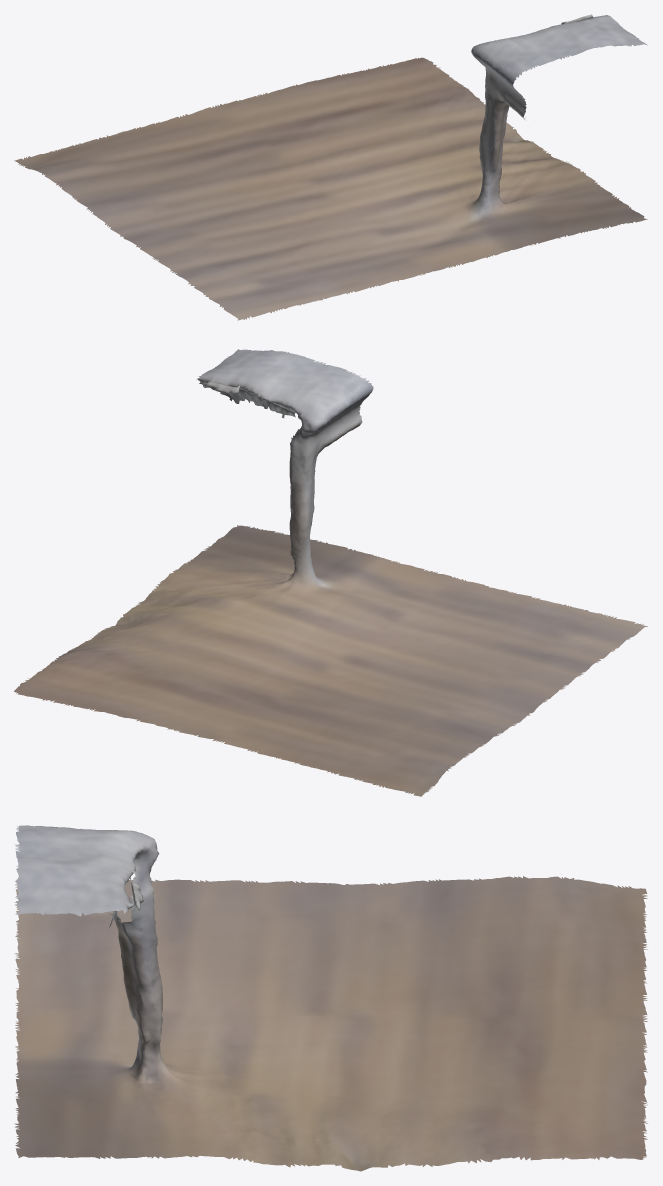
File: apartment-full-111-5c13a50c8bb3.glb
The picture shows the model from 3 angles, top to bottom: view 1: azimuth 30°, elevation 25°; view 2: azimuth 150°, elevation 25°; view 3: azimuth 270°, elevation 25°; orthographic projection. The views are drawn at different scales.
Size of the model in its own units: 1.23 by 0.579 by 1.18.
